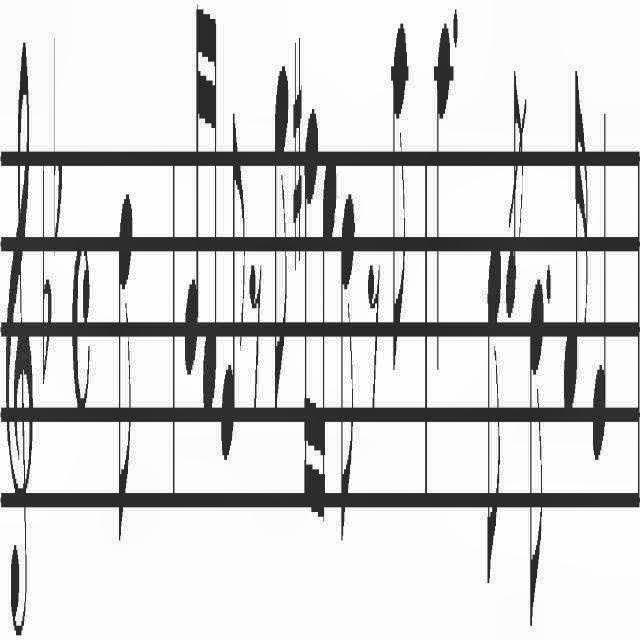Bass-clef: (0, 0, 38, 640)
Bemol: (48, 26, 64, 254), (38, 134, 52, 390)
Diez: (290, 17, 304, 272)
Eighth-note: (222, 66, 246, 494), (112, 158, 136, 582), (388, 1, 412, 403), (272, 48, 292, 428), (526, 246, 544, 640), (484, 217, 502, 596), (339, 176, 357, 552)
Eighth-rest: (248, 225, 264, 442), (366, 249, 382, 415)
Quarter-note: (432, 0, 452, 402), (592, 100, 612, 470)
Sixteenth-note: (561, 43, 587, 440), (180, 0, 201, 408), (201, 0, 219, 436), (301, 100, 319, 526), (322, 148, 336, 528)
